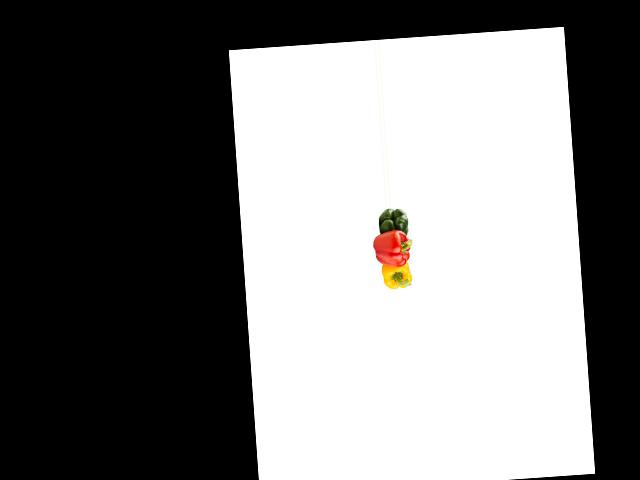bell_pepper: (375, 259, 415, 292)
